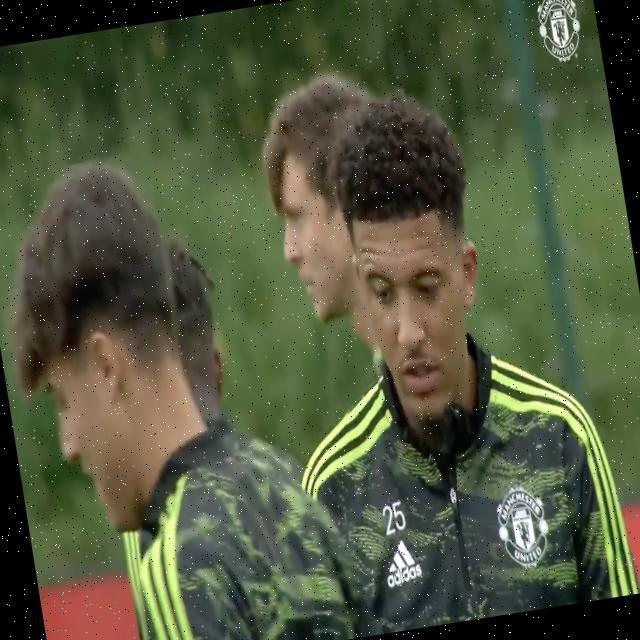Adidas: (380, 536, 425, 589)
